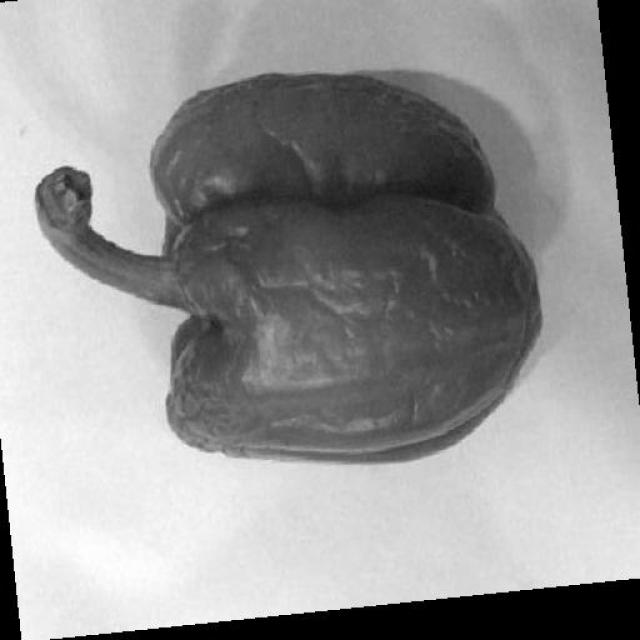Stale_Capsicum: (52, 61, 537, 532)
